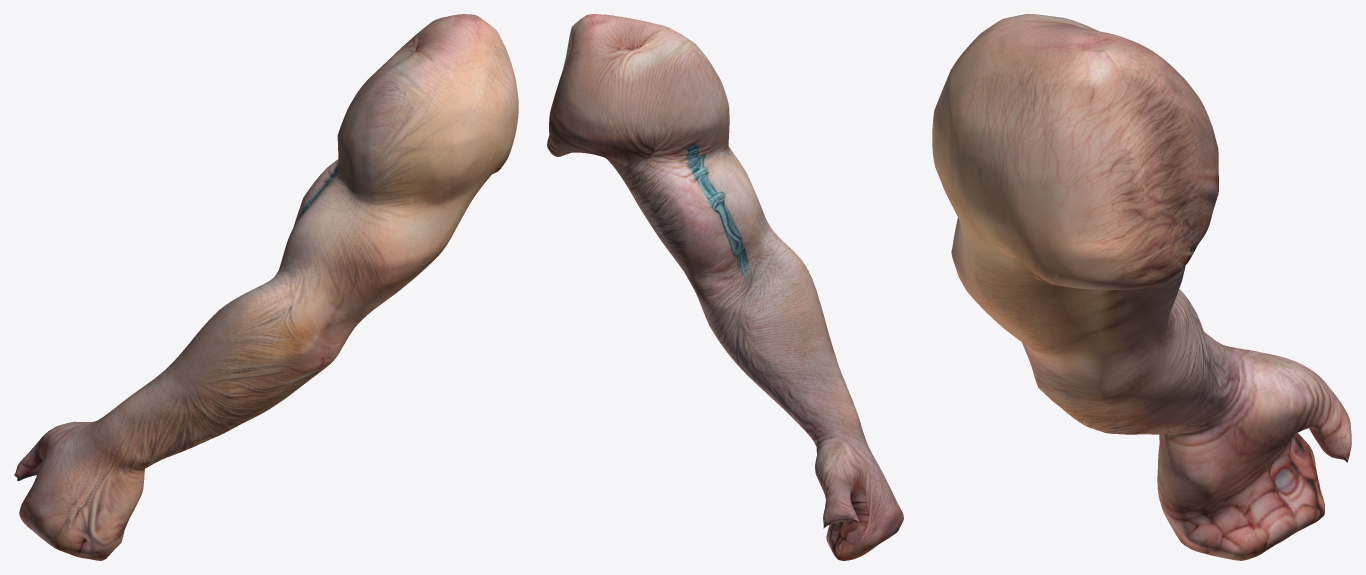
3 views of the same model, side by side, from view 1: azimuth 30°, elevation 25°; view 2: azimuth 150°, elevation 25°; view 3: azimuth 270°, elevation 25° (orthographic). The views are drawn at different scales.
Bounding box in the file's own units: 1.09 × 1.2 × 0.592.
Materials: 1 (1 with a texture image).
